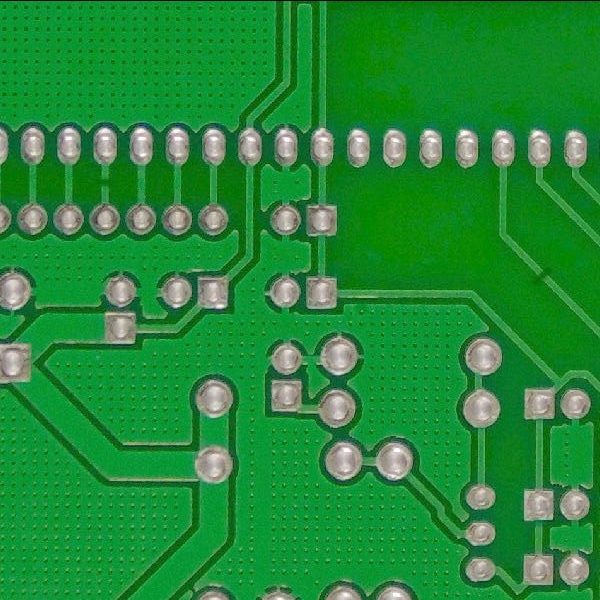open_circuit: (526, 258, 560, 286), (95, 168, 116, 194)
